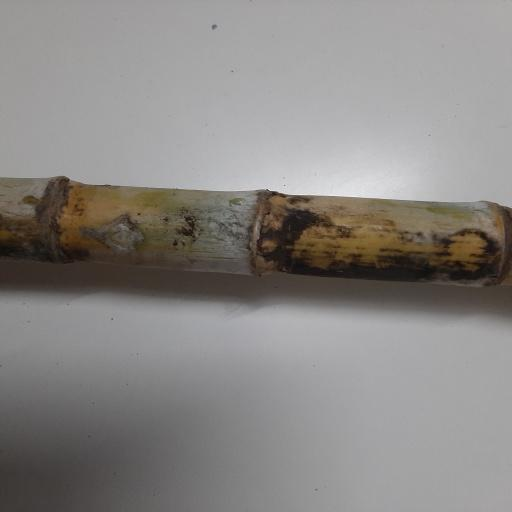Bud: (256, 236, 279, 256)
